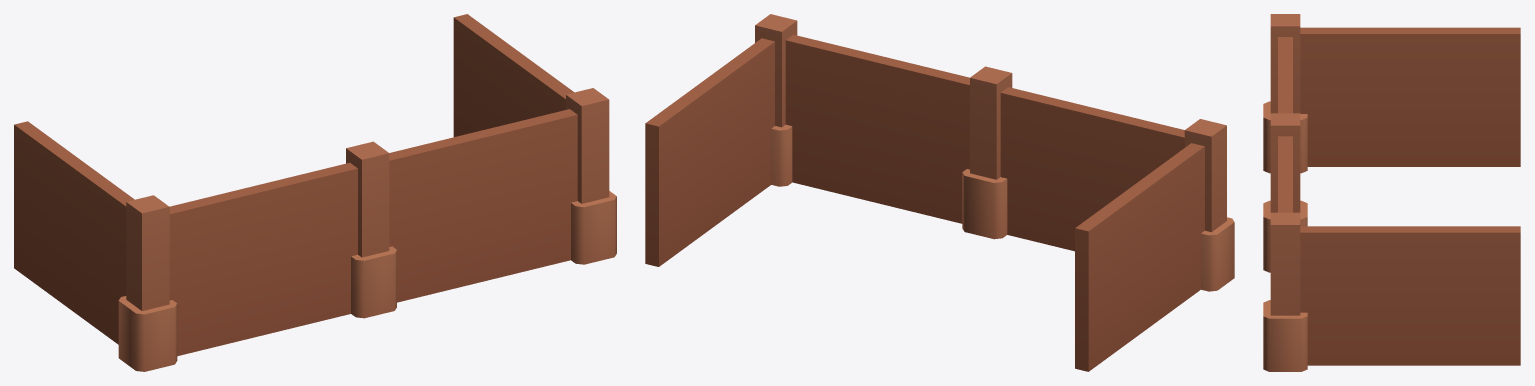
Rendered from fence-1x2.glb.
3 renders of one model, left to right at view 1: azimuth 30°, elevation 25°; view 2: azimuth 150°, elevation 25°; view 3: azimuth 270°, elevation 25°, orthographic. The views are drawn at different scales.
Visible parts, largest first — view 1: fence-1x2; view 2: fence-1x2; view 3: fence-1x2.
Boxes of the visible parts, x1,y1,x2,y2 form: fence-1x2: [14, 14, 616, 371]; fence-1x2: [645, 14, 1234, 371]; fence-1x2: [1263, 14, 1520, 371].
Size of the model in its own units: 0.875 by 0.27 by 0.4375.
